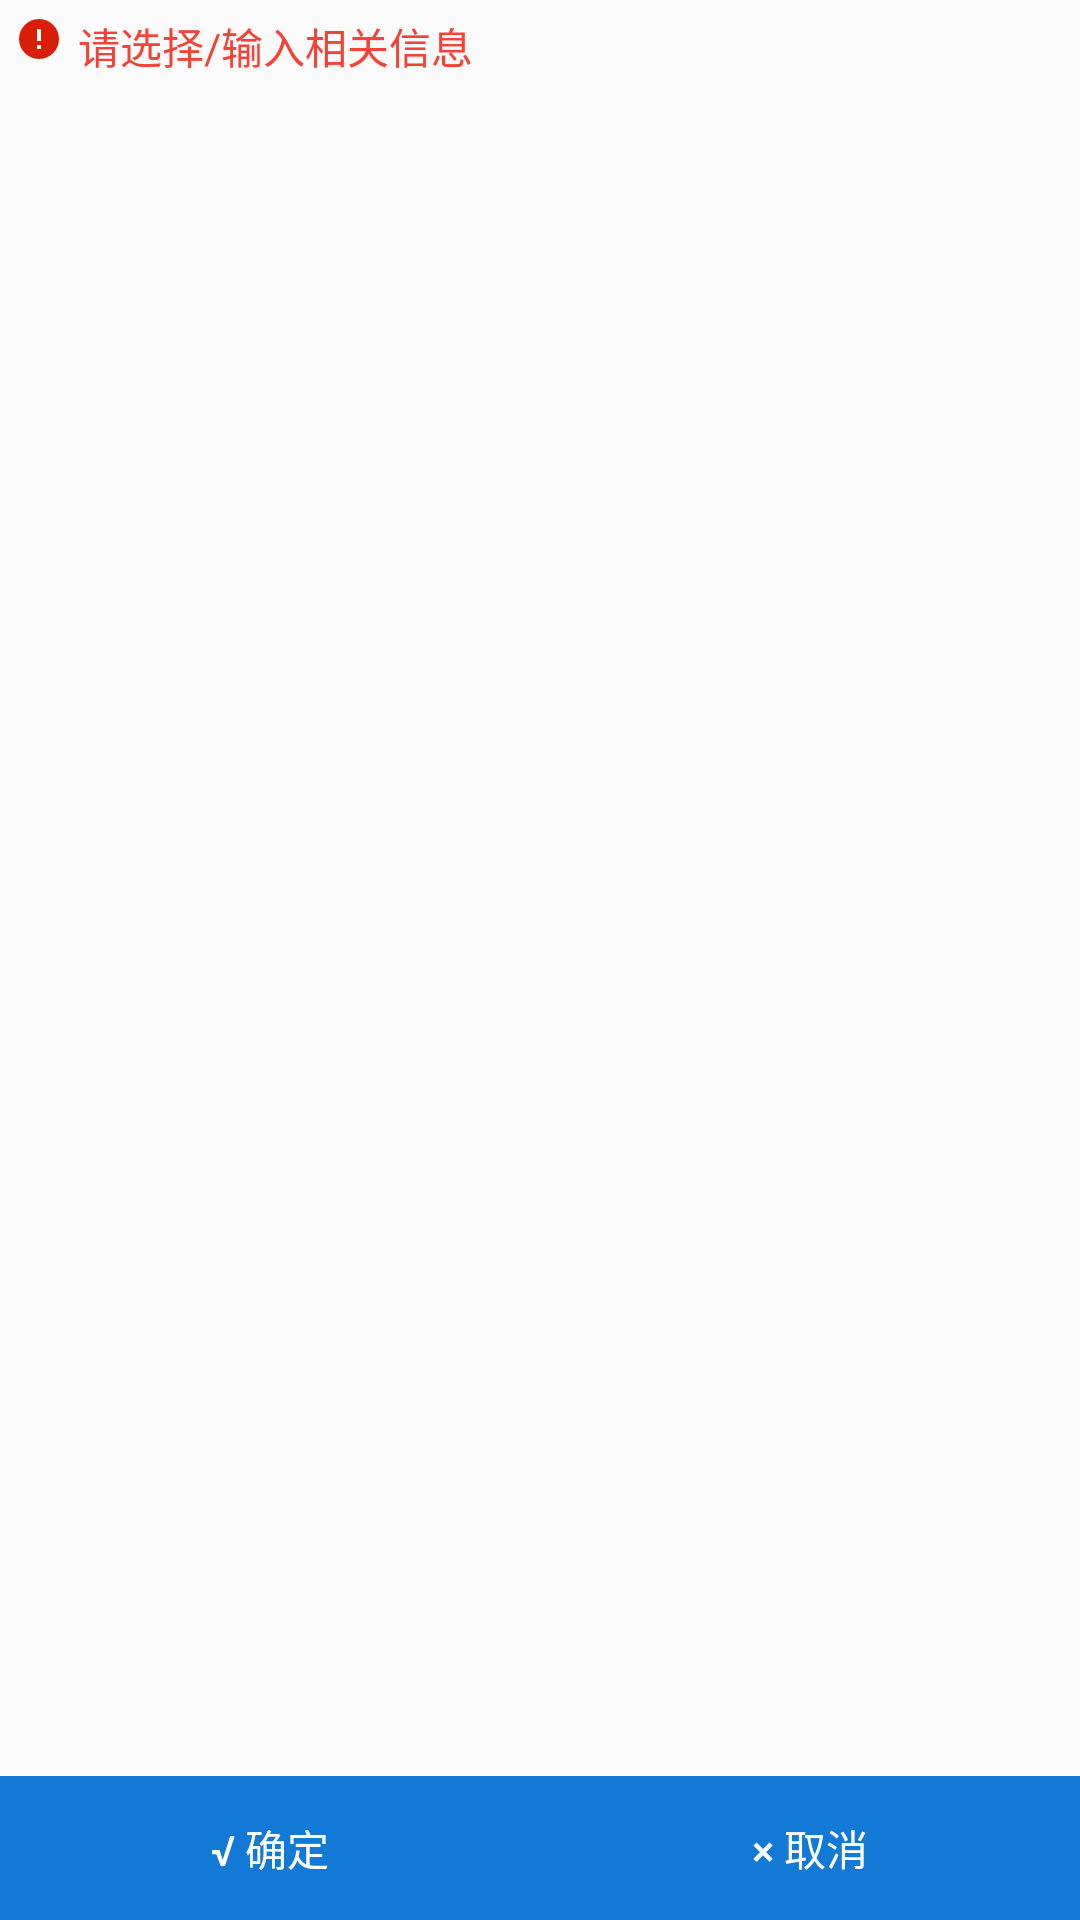

Screen size 1080x1920. Icon name, then its center in pixels as (x=x, y=y):
error: (x=39, y=39)
